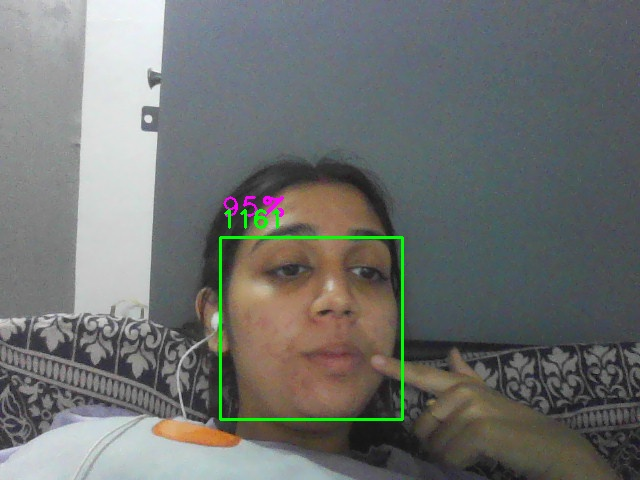real: (220, 237, 403, 420)
